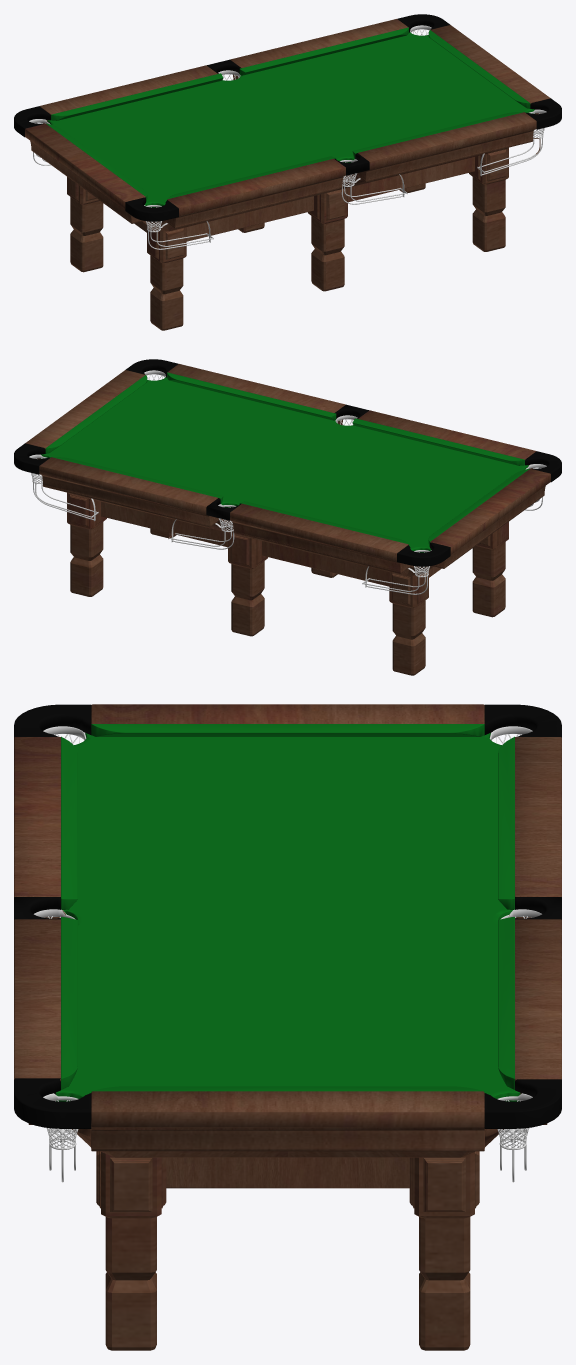
The model's file is pool_table.glb.
The picture shows the model from 3 angles, top to bottom: view 1: azimuth 30°, elevation 25°; view 2: azimuth 150°, elevation 25°; view 3: azimuth 270°, elevation 25°; orthographic projection. The views are drawn at different scales.
Visible parts, largest first — view 1: table; view 2: table; view 3: table.
Part boxes in pixels (x1,y1,x2,y2): table: [14, 14, 561, 330]; table: [14, 359, 561, 675]; table: [14, 704, 561, 1350].
Size of the model in its own units: 2.6 by 0.8331 by 1.48.
Materials: 5 (1 with a texture image).
